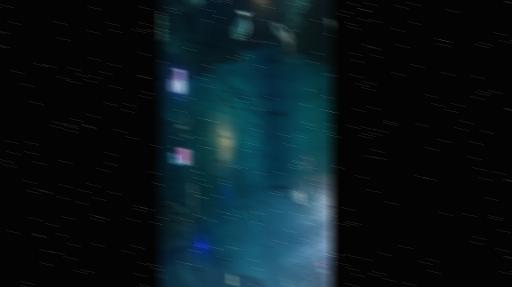Fish: (274, 22, 291, 51), (234, 10, 250, 39), (302, 152, 311, 171), (293, 188, 302, 204), (316, 175, 323, 195), (281, 271, 290, 286), (301, 176, 308, 193), (318, 259, 325, 272), (249, 206, 254, 223), (259, 200, 264, 216), (262, 96, 267, 110), (241, 94, 246, 105), (252, 218, 257, 229), (328, 20, 332, 31), (224, 90, 231, 96), (274, 185, 288, 188), (248, 121, 255, 127), (326, 273, 329, 286), (222, 98, 229, 103), (243, 108, 250, 113), (238, 198, 243, 203), (235, 199, 239, 205), (270, 112, 281, 114), (224, 112, 229, 116), (234, 87, 239, 90), (238, 89, 241, 94), (238, 209, 241, 214), (232, 200, 234, 207), (271, 199, 274, 203), (281, 204, 283, 209), (235, 106, 238, 109), (236, 209, 238, 213), (230, 105, 232, 108), (161, 274, 163, 277)
